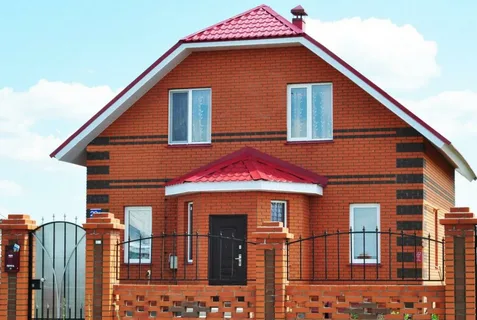private_hause: (98, 17, 433, 278)
